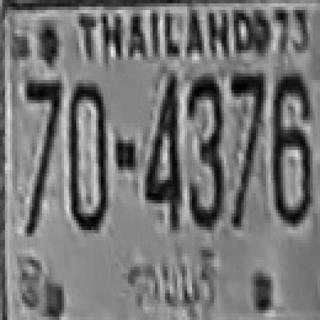N00: (66, 80, 106, 230)
N03: (184, 73, 222, 227)
N04: (143, 70, 180, 227)
N06: (271, 70, 310, 223)
N07: (229, 70, 264, 210), (24, 77, 59, 203), (229, 68, 264, 172), (24, 77, 59, 177), (229, 70, 264, 157)
P52: (118, 237, 231, 320)
